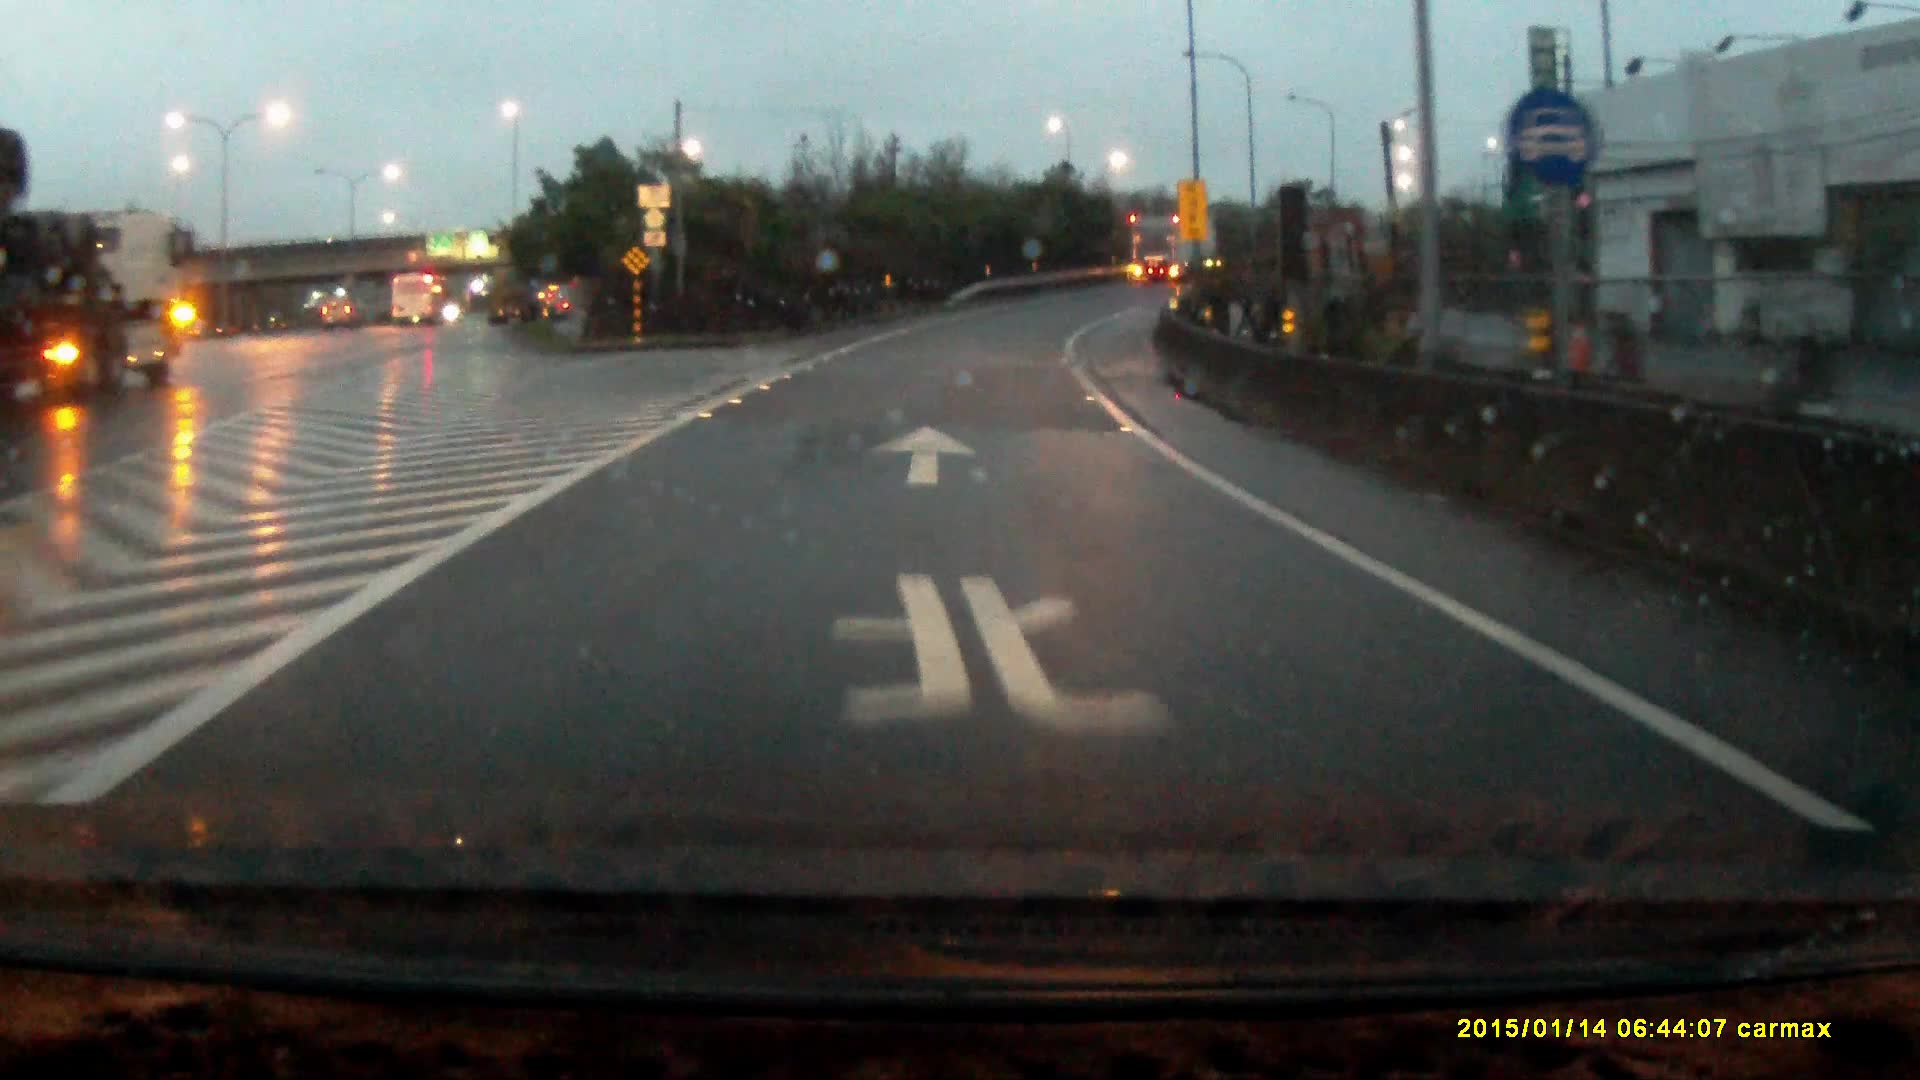vehicle: (1, 177, 193, 401), (1130, 210, 1228, 284), (392, 272, 444, 323), (323, 298, 355, 328)
